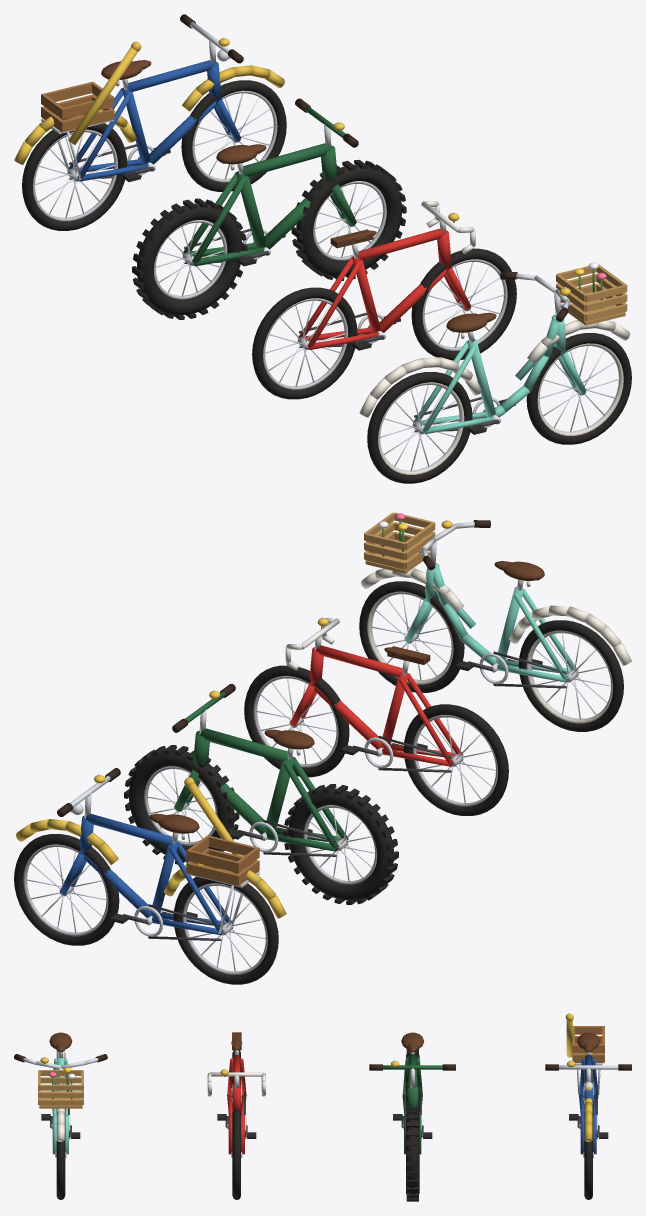
The model's file is bikes.glb.
3 renders of one model, top to bottom at view 1: azimuth 30°, elevation 25°; view 2: azimuth 150°, elevation 25°; view 3: azimuth 270°, elevation 25°, orthographic. The views are drawn at different scales.
Parts seen in each view (by area): view 1: tourer_frame, mtb_wheelR, cruiser_frame, mtb_wheelF, mtb_frame, cruiser_steer, road_frame, road_wheelR, cruiser_wheelR, cruiser_wheelF, tourer_wheelR, road_wheelF (+4 smaller); view 2: tourer_frame, mtb_wheelR, cruiser_frame, mtb_frame, road_frame, cruiser_steer, mtb_wheelF, cruiser_wheelR, road_wheelR, tourer_wheelF, tourer_wheelR, cruiser_wheelF (+4 smaller); view 3: cruiser_steer, tourer_frame, tourer_steer, mtb_wheelF, mtb_frame, road_frame, road_steer, road_wheelF, mtb_steer, cruiser_frame, cruiser_wheelF, tourer_wheelF.
Part boxes in pixels (left/top/right/bottom): tourer_frame: left=14, top=41, right=221, bottom=181; mtb_wheelR: left=132, top=198, right=247, bottom=319; cruiser_frame: left=359, top=312, right=566, bottom=434; mtb_wheelF: left=291, top=159, right=406, bottom=280; mtb_frame: left=182, top=143, right=337, bottom=266; cruiser_steer: left=500, top=262, right=630, bottom=393; road_frame: left=297, top=228, right=451, bottom=349; road_wheelR: left=252, top=287, right=357, bottom=399; cruiser_wheelR: left=367, top=372, right=472, bottom=483; cruiser_wheelF: left=526, top=333, right=631, bottom=444; tourer_wheelR: left=22, top=123, right=127, bottom=230; road_wheelF: left=411, top=248, right=516, bottom=360; tourer_frame: left=79, top=777, right=286, bottom=940; mtb_wheelR: left=283, top=784, right=398, bottom=904; cruiser_frame: left=424, top=561, right=631, bottom=688; mtb_frame: left=193, top=728, right=348, bottom=856; road_frame: left=309, top=645, right=463, bottom=772; cruiser_steer: left=361, top=512, right=490, bottom=642; mtb_wheelF: left=124, top=745, right=239, bottom=864; cruiser_wheelR: left=518, top=620, right=623, bottom=731; road_wheelR: left=403, top=704, right=508, bottom=815; tourer_wheelF: left=14, top=834, right=119, bottom=945; tourer_wheelR: left=173, top=877, right=278, bottom=984; cruiser_wheelF: left=359, top=581, right=464, bottom=692; cruiser_steer: left=14, top=1054, right=107, bottom=1154; tourer_frame: left=565, top=1013, right=604, bottom=1115; tourer_steer: left=545, top=1060, right=631, bottom=1154; mtb_wheelF: left=406, top=1107, right=419, bottom=1201; mtb_frame: left=401, top=1032, right=424, bottom=1115; road_frame: left=227, top=1032, right=246, bottom=1139; road_steer: left=207, top=1068, right=265, bottom=1154; road_wheelF: left=231, top=1109, right=242, bottom=1199; mtb_steer: left=369, top=1060, right=455, bottom=1154; cruiser_frame: left=49, top=1032, right=72, bottom=1139; cruiser_wheelF: left=55, top=1113, right=66, bottom=1199; tourer_wheelF: left=583, top=1112, right=593, bottom=1199.
Bounding box in the file's own units: 1.78 × 1.16 × 4.57.
